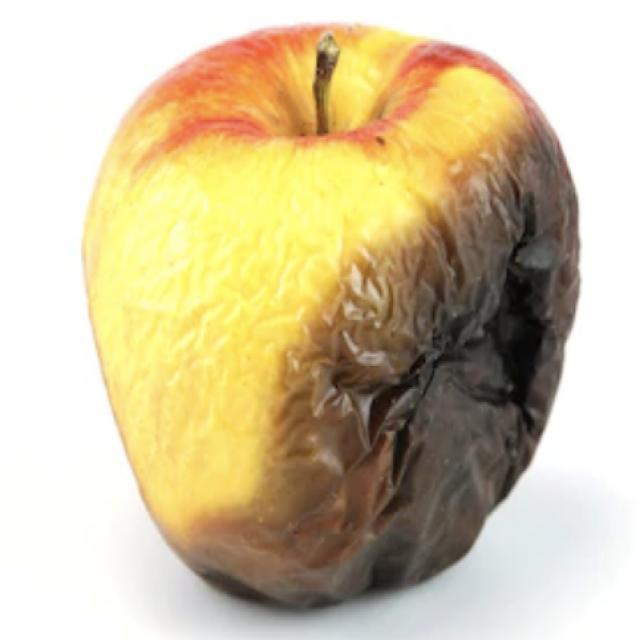Rotten: (77, 18, 588, 610)
